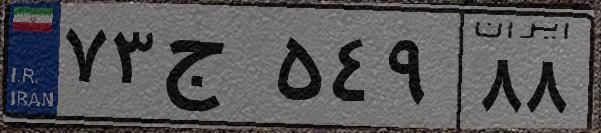3: (110, 28, 158, 98)
4: (330, 28, 385, 110)
5: (270, 28, 330, 110)
7: (57, 26, 110, 100)
8: (475, 38, 525, 113), (525, 38, 570, 115)
9: (385, 28, 445, 110)
ج: (158, 20, 270, 120)
